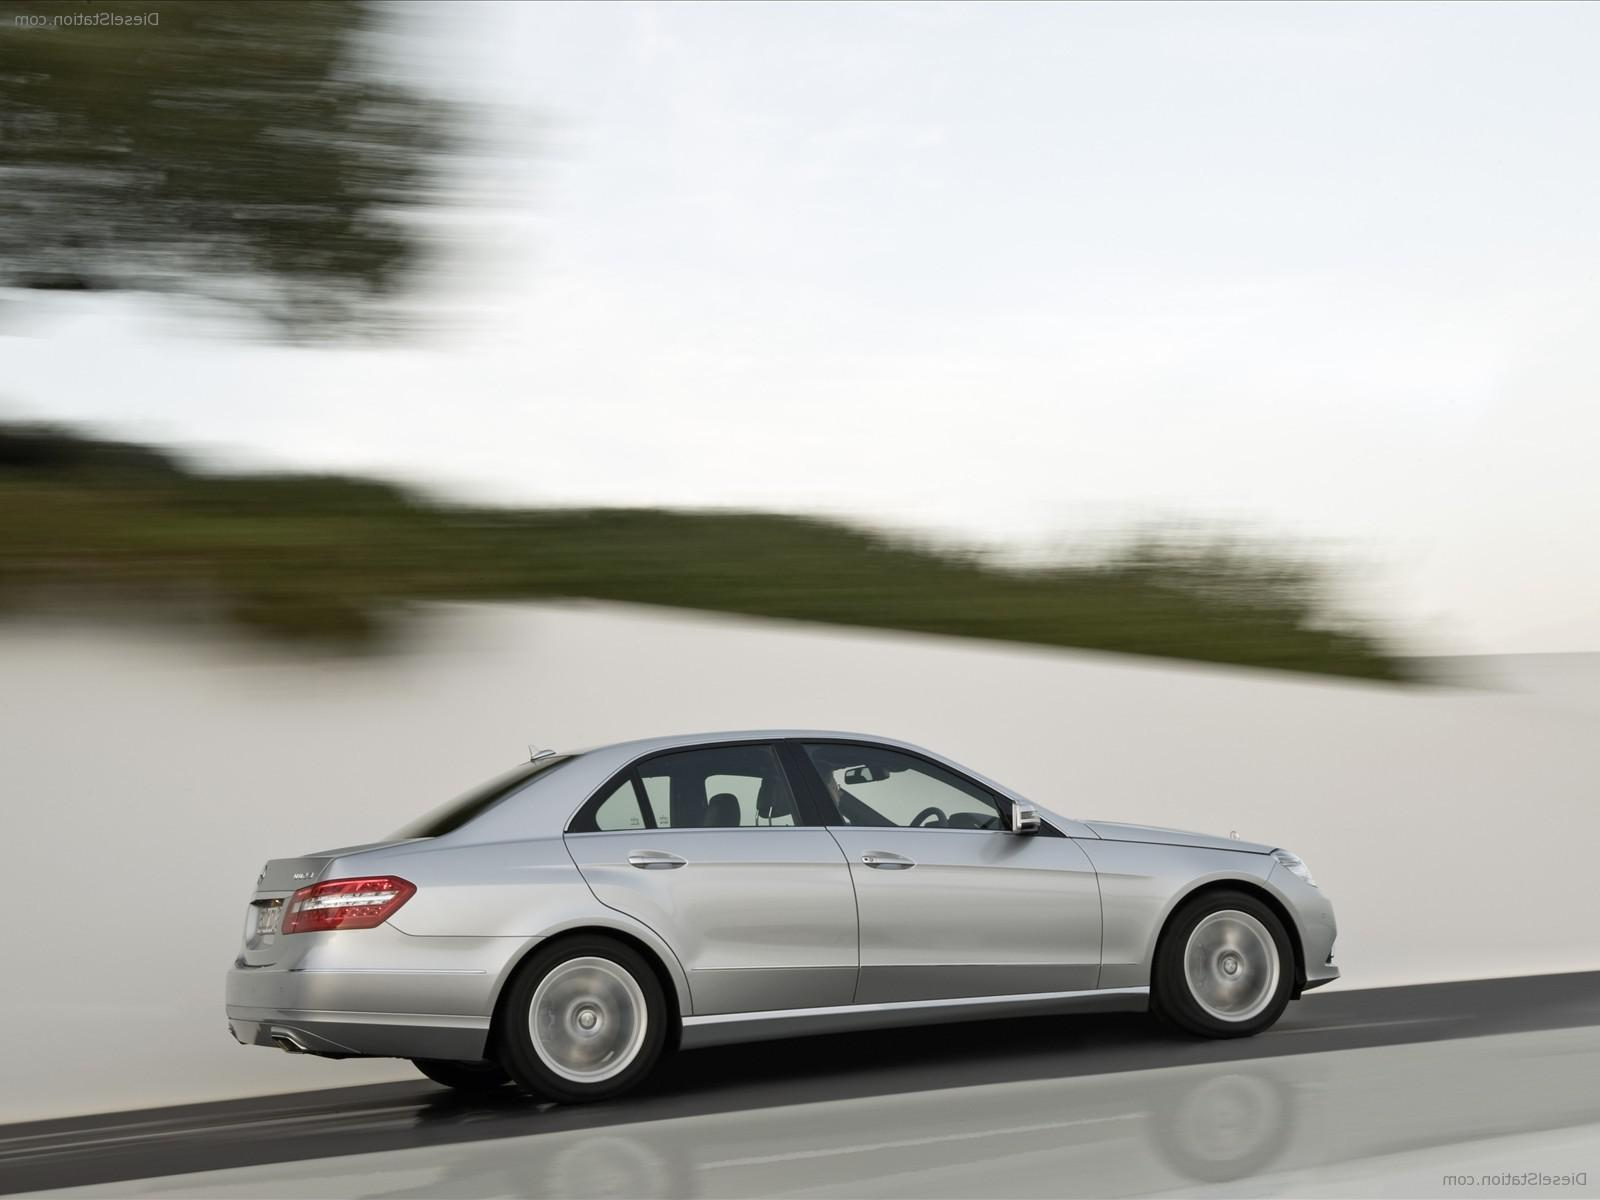Car: (191, 705, 1393, 1138)
